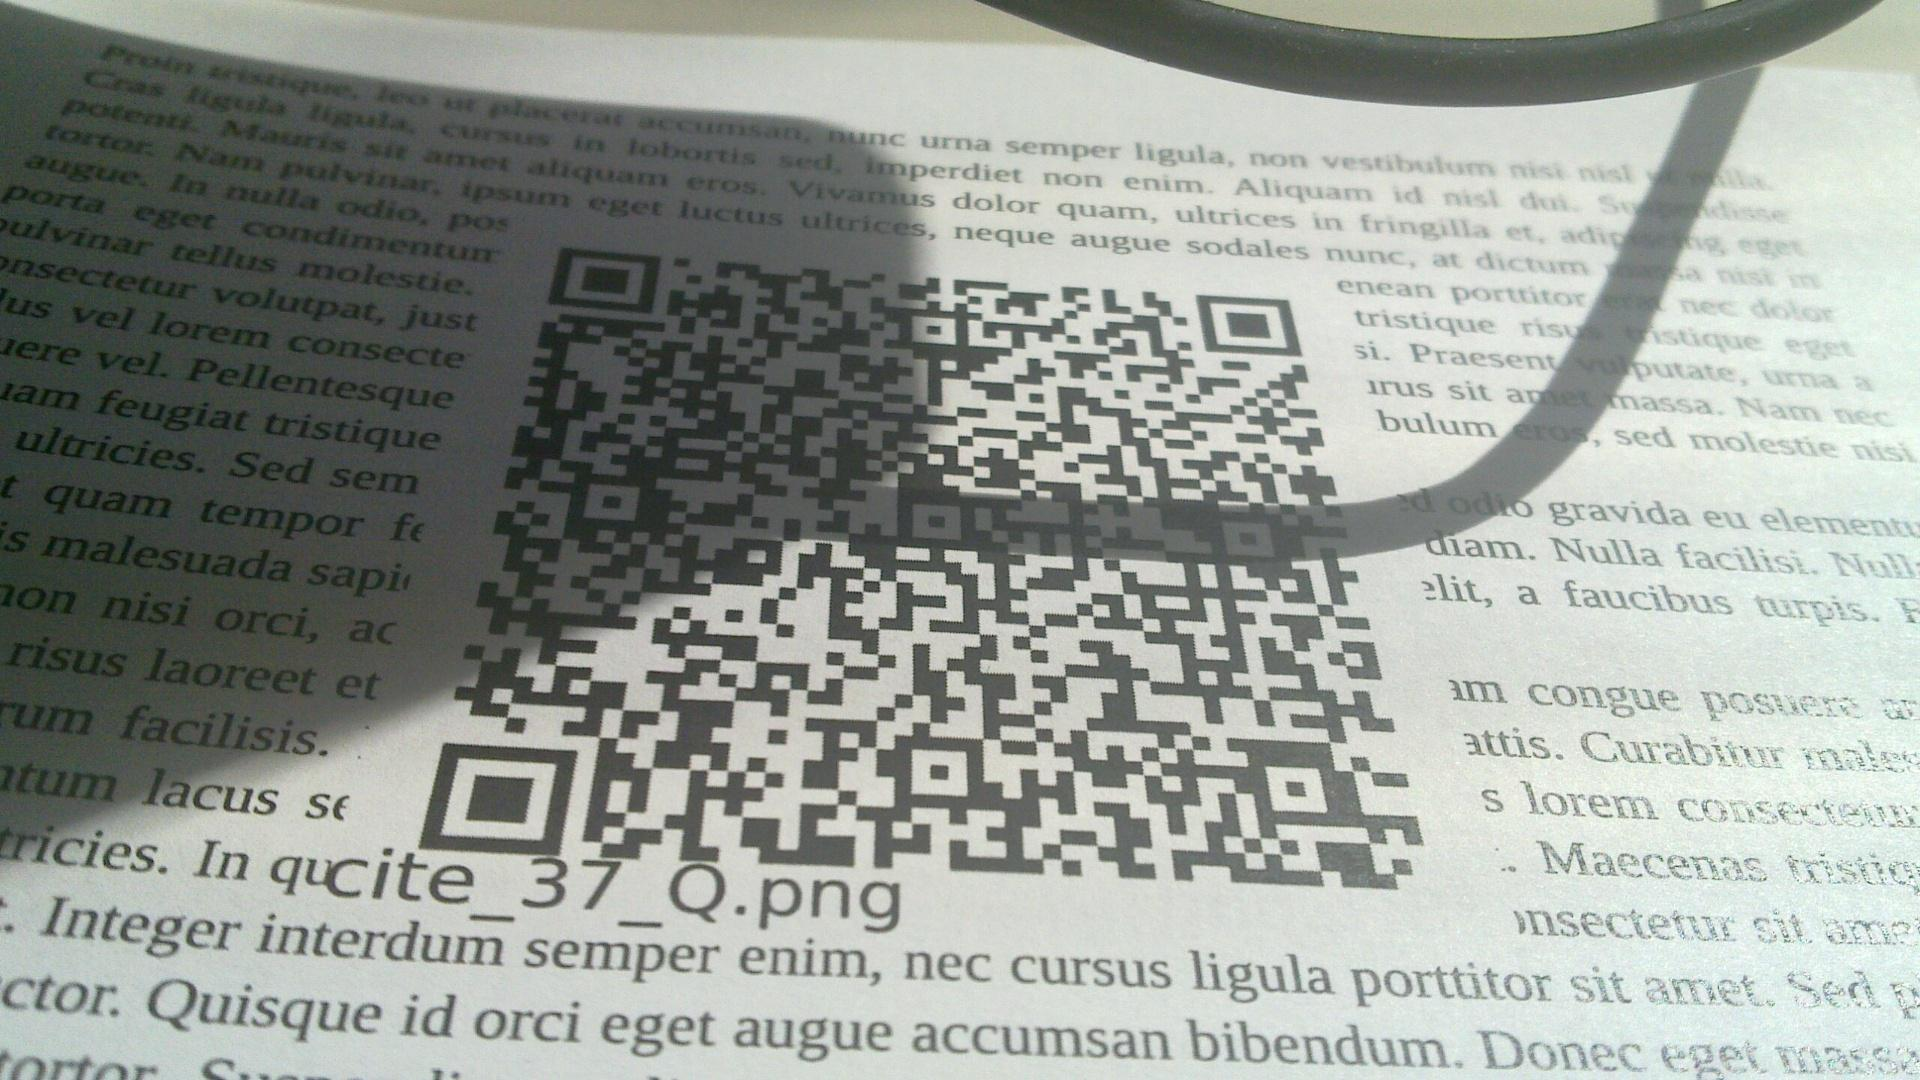Finder pattern: (415, 740, 580, 862), (546, 240, 665, 316), (1192, 287, 1309, 363)
